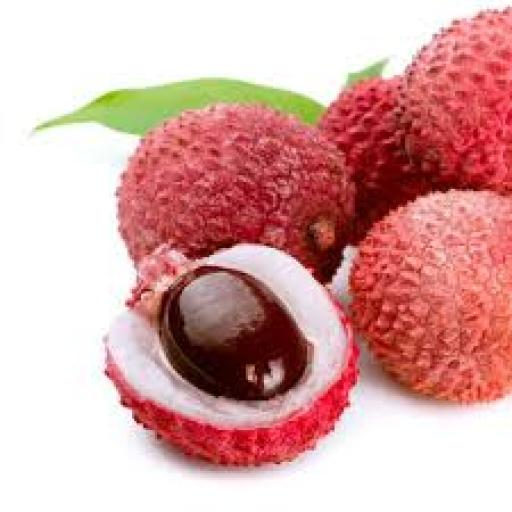lychee: (105, 244, 357, 464), (119, 105, 354, 279), (351, 192, 511, 402), (401, 7, 511, 193), (319, 78, 434, 243)
